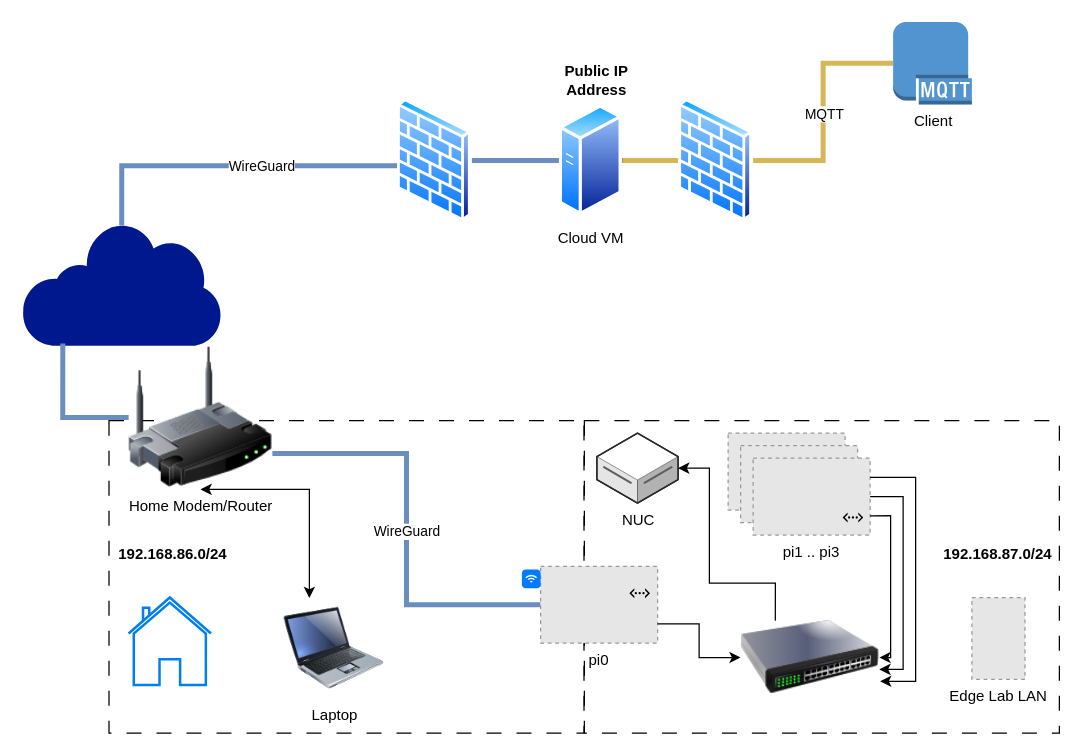
Some shapes in this 1081 by 755 pixel diagram are drawn without their labels. Grey dashed boxes stand in for pictures. Each missing label, with the box of its shape:
Basic Switch: (740, 620, 879, 694)
Home LAN: (127, 596, 212, 686)
Outbound: All Inbound: TCP 1883: (678, 98, 752, 221)
Outbound: All Inbound: UDP 51820: (396, 98, 471, 221)
